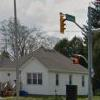Traffic light: (55, 8, 74, 34)
